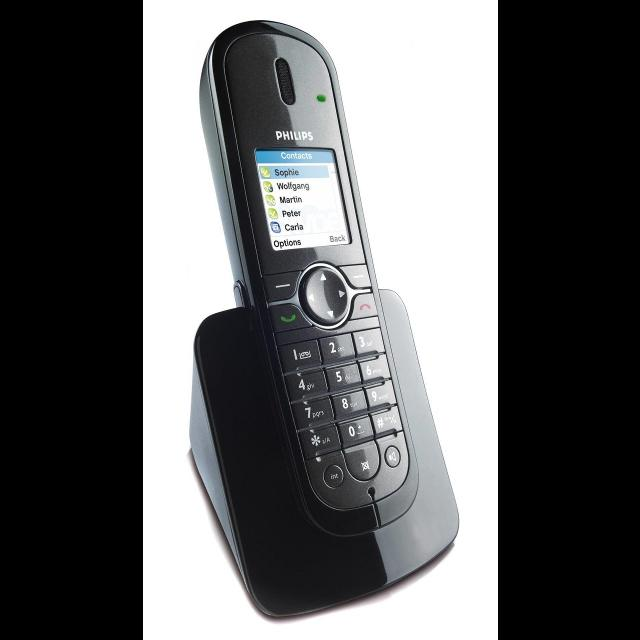Telephone-Set: (172, 1, 496, 640)
